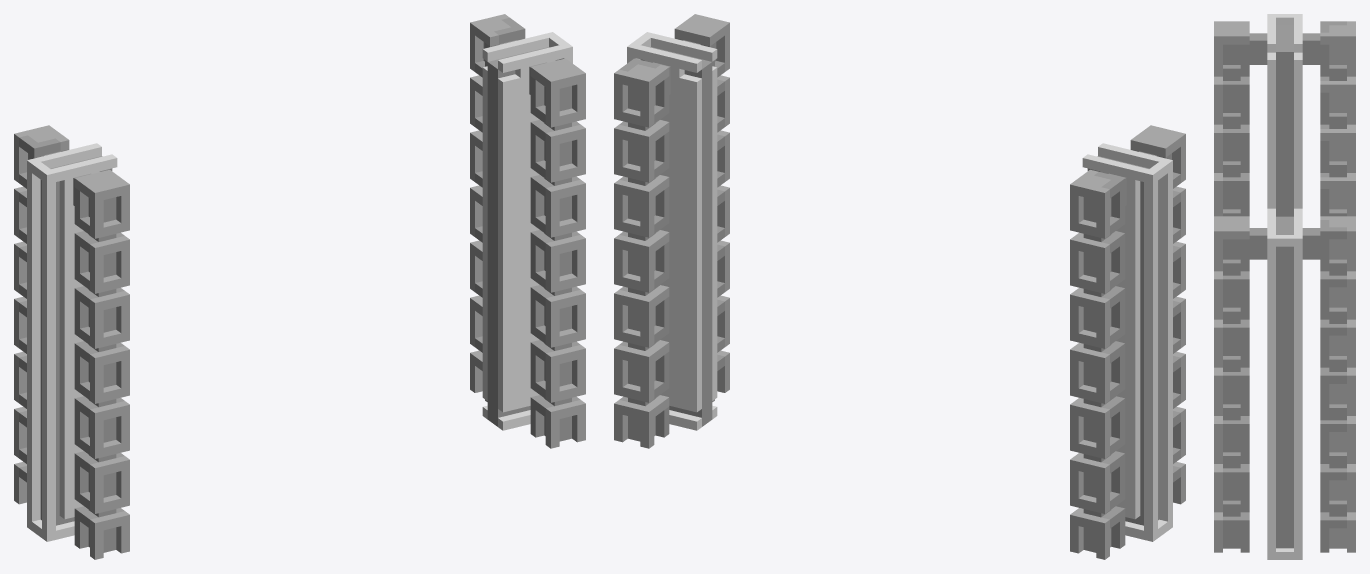
File: Main Hall Open Hallway.obj
3 renders of one model, left to right at view 1: azimuth 30°, elevation 25°; view 2: azimuth 150°, elevation 25°; view 3: azimuth 270°, elevation 25°, orthographic. The views are drawn at different scales.
Bounding box in the file's own units: 60 × 40 × 16.
1 material, 1 textured.
